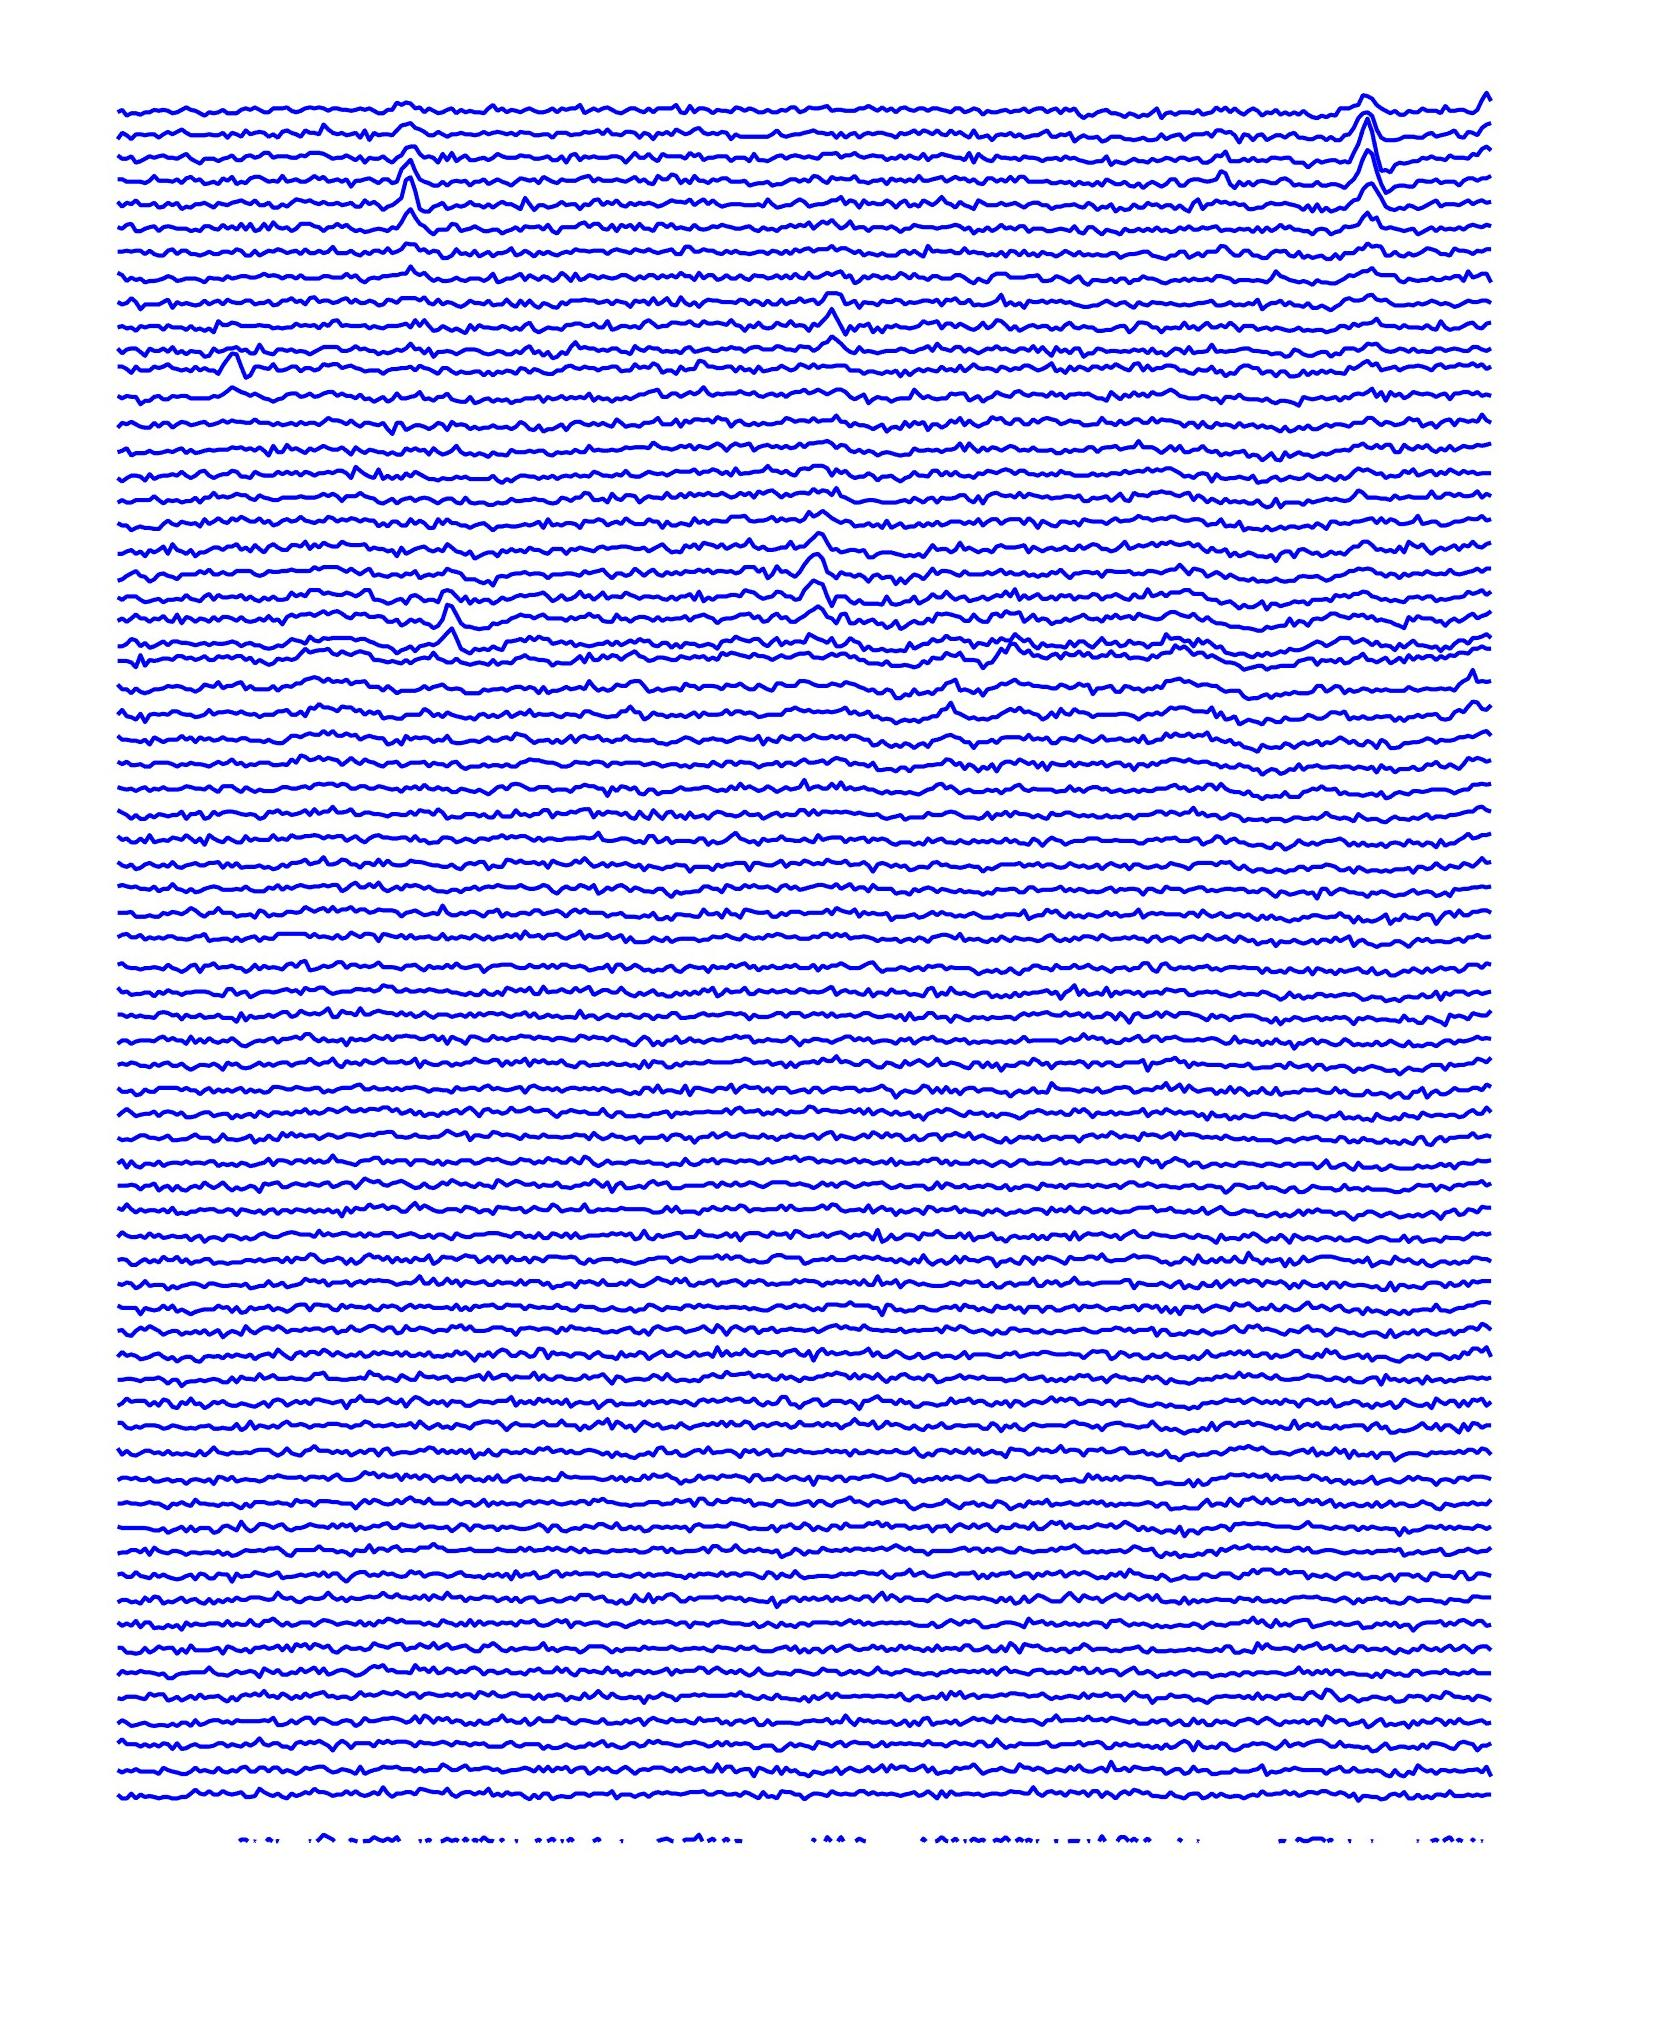defect: (778, 519, 850, 665), (1322, 101, 1399, 231), (419, 554, 478, 665), (813, 268, 864, 396), (382, 126, 428, 266)
